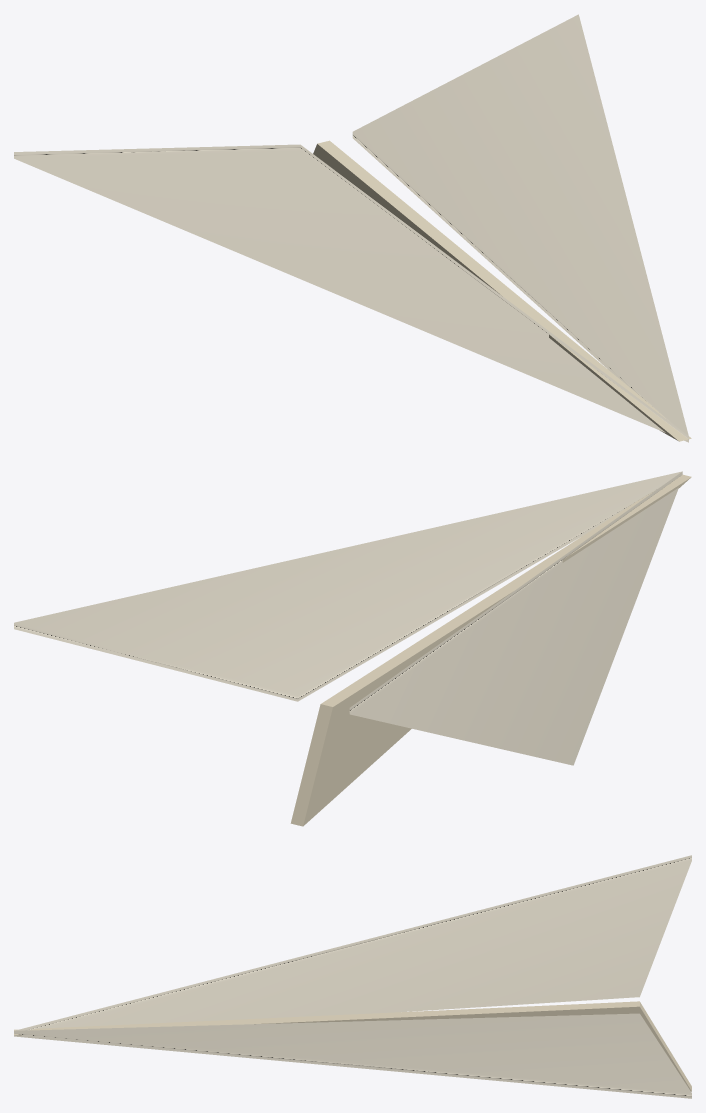
File: paper-plane.glb
3 renders of one model, top to bottom at view 1: azimuth 30°, elevation 25°; view 2: azimuth 150°, elevation 25°; view 3: azimuth 270°, elevation 25°, orthographic. The views are drawn at different scales.
Visible parts, largest first — view 1: Plane_folded_wing_1, Plane_folded_wing_-1, Plane_keel_fold_-1, Plane_keel_fold_1; view 2: Plane_folded_wing_1, Plane_folded_wing_-1, Plane_keel_fold_-1, Plane_keel_fold_1; view 3: Plane_folded_wing_-1, Plane_folded_wing_1, Plane_keel_fold_1, Plane_keel_fold_-1.
Boxes of the visible parts, <box> form: Plane_folded_wing_1: <box>352,14,688,435</box>; Plane_folded_wing_-1: <box>14,144,688,442</box>; Plane_keel_fold_-1: <box>313,142,685,441</box>; Plane_keel_fold_1: <box>323,140,691,439</box>; Plane_folded_wing_1: <box>14,471,681,701</box>; Plane_folded_wing_-1: <box>349,471,682,765</box>; Plane_keel_fold_-1: <box>297,475,691,826</box>; Plane_keel_fold_1: <box>290,474,685,824</box>; Plane_folded_wing_-1: <box>14,855,691,1030</box>; Plane_folded_wing_1: <box>14,1013,691,1098</box>; Plane_keel_fold_1: <box>14,1004,691,1091</box>; Plane_keel_fold_-1: <box>14,1001,691,1088</box>.
Size of the model in its own units: 0.54 by 0.123 by 0.65.
